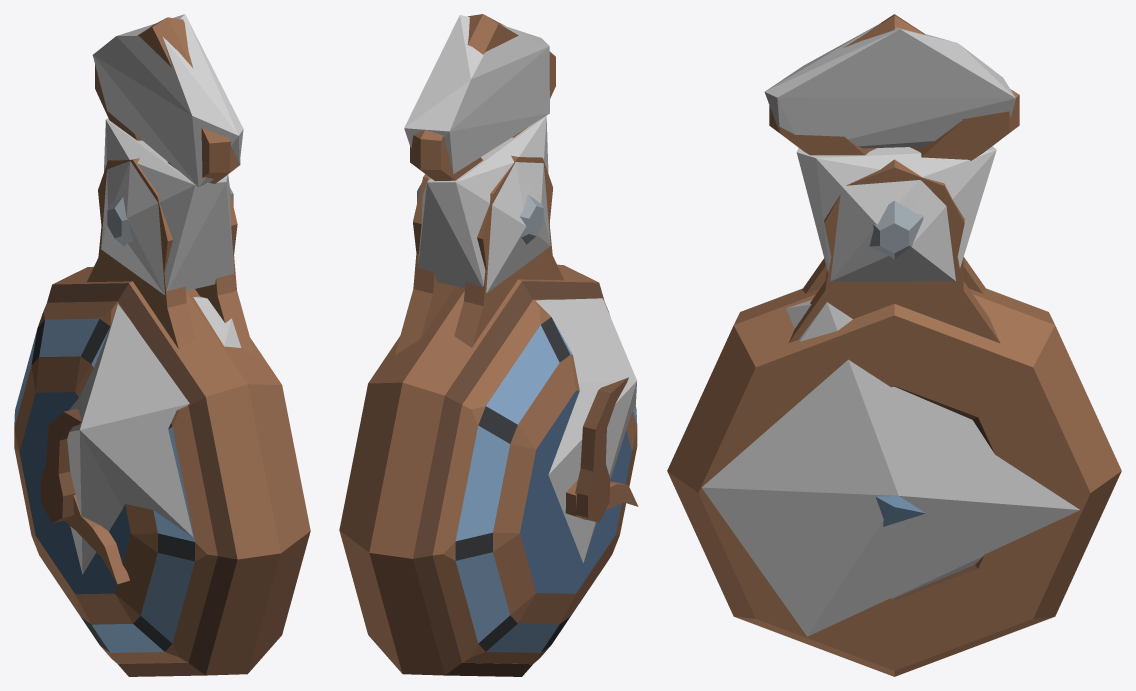
Rendered from SM_Item_Timepiece_01.fbx.
3 views of the same model, side by side, from view 1: azimuth 30°, elevation 25°; view 2: azimuth 150°, elevation 25°; view 3: azimuth 270°, elevation 25° (orthographic).
Visible parts, largest first — view 1: SM_Item_Timepiece_01, SM_Item_Timepiece_01_ConvexHulls; view 2: SM_Item_Timepiece_01, SM_Item_Timepiece_01_ConvexHulls; view 3: SM_Item_Timepiece_01_ConvexHulls, SM_Item_Timepiece_01.
Boxes of the visible parts, x1,y1,x2,y2 form: SM_Item_Timepiece_01: [14, 17, 310, 676]; SM_Item_Timepiece_01_ConvexHulls: [67, 14, 243, 574]; SM_Item_Timepiece_01: [339, 14, 638, 676]; SM_Item_Timepiece_01_ConvexHulls: [404, 15, 636, 562]; SM_Item_Timepiece_01_ConvexHulls: [701, 23, 1079, 636]; SM_Item_Timepiece_01: [667, 14, 1121, 676].
Bounding box in the file's own units: 14.42 × 29.08 × 46.67.
2 materials, 1 textured.
